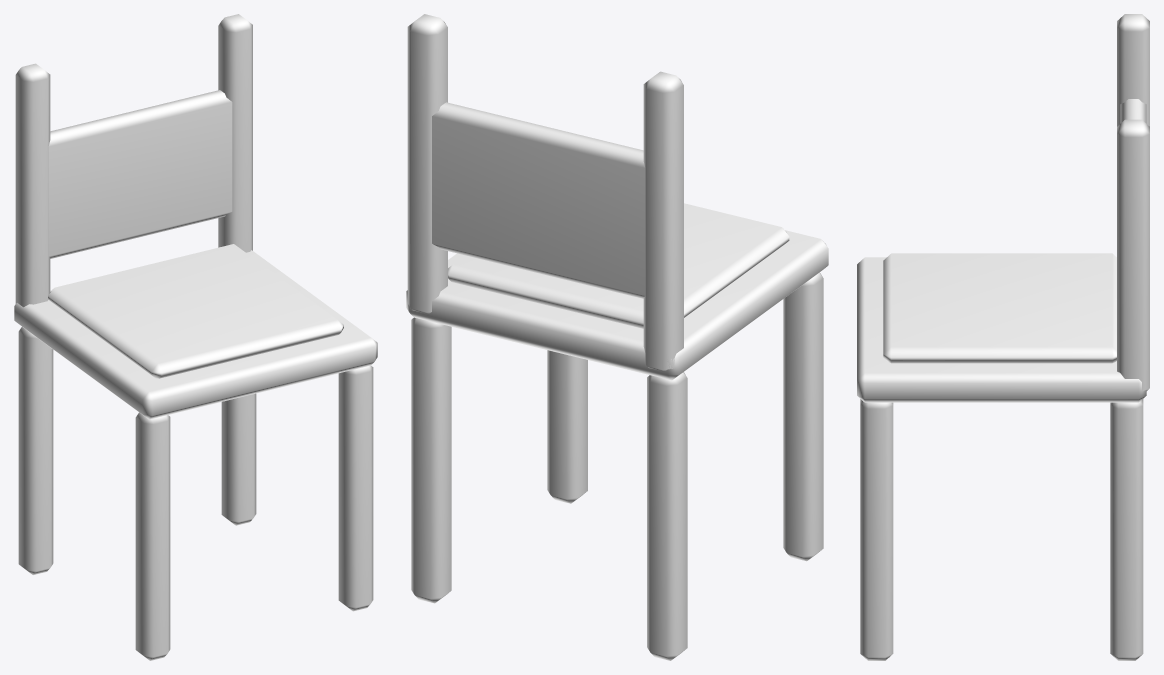
The model's file is chair.glb.
3 views of the same model, side by side, from view 1: azimuth 30°, elevation 25°; view 2: azimuth 150°, elevation 25°; view 3: azimuth 270°, elevation 25° (orthographic). The views are drawn at different scales.
Visible parts, largest first — view 1: Chair; view 2: Chair; view 3: Chair.
Part boxes in pixels (x1=…): Chair: x1=14, y1=14, x2=377, y2=660; Chair: x1=406, y1=14, x2=828, y2=660; Chair: x1=857, y1=14, x2=1149, y2=660.
Size of the model in its own units: 0.44 by 0.895 by 0.445.
1 material, 1 textured.
